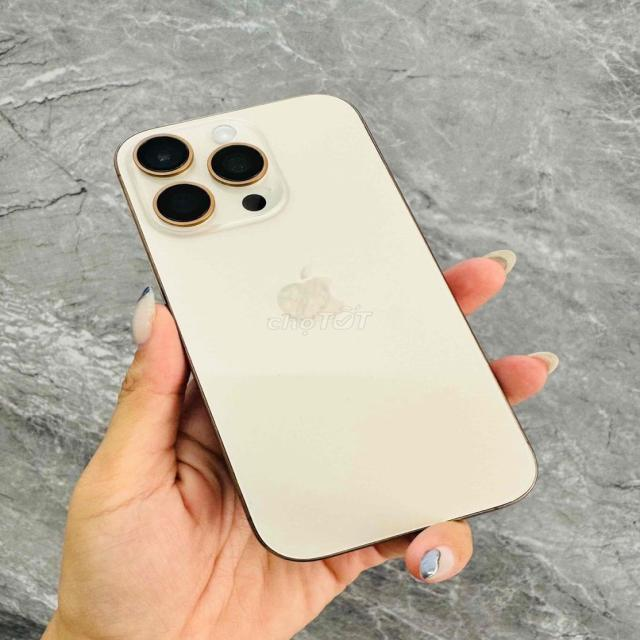gen_16: (114, 95, 545, 567)
